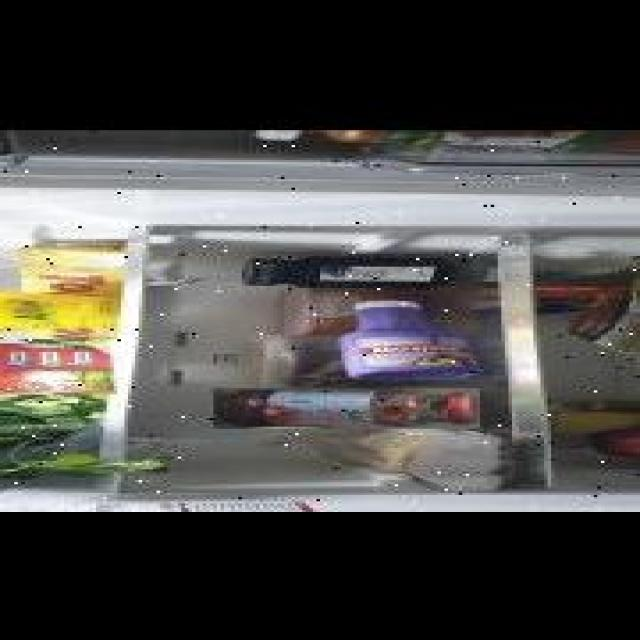apple: (579, 424, 640, 458)
butter: (0, 335, 121, 390)
marmelade: (213, 386, 480, 427), (238, 254, 455, 286)
